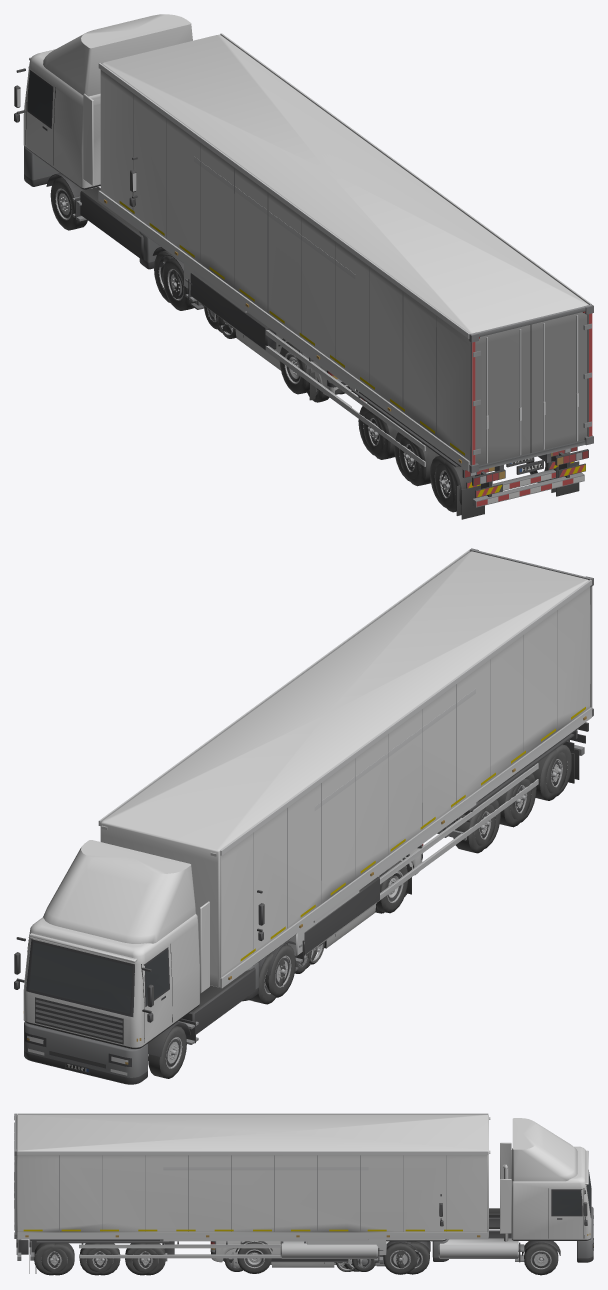
The model's file is traffic.glb.
3 renders of one model, top to bottom at view 1: azimuth 30°, elevation 25°; view 2: azimuth 150°, elevation 25°; view 3: azimuth 270°, elevation 25°, orthographic. The views are drawn at different scales.
Parts seen in each view (by area): view 1: semi, tanker, boxtruck, van; view 2: semi, tanker, boxtruck; view 3: semi, tanker, boxtruck, van, sports.
Boxes of the visible parts, x1,y1,x2,y2 form: semi: (14, 14, 593, 519); tanker: (14, 50, 577, 515); boxtruck: (129, 156, 367, 403); van: (200, 303, 352, 402); semi: (14, 548, 593, 1084); tanker: (14, 730, 577, 1083); boxtruck: (242, 688, 478, 1001); semi: (14, 1113, 593, 1275); tanker: (29, 1142, 593, 1275); boxtruck: (160, 1167, 448, 1274); van: (210, 1241, 389, 1271); sports: (231, 1250, 376, 1271).
Size of what is drawn, in the model's own units: 2.91 by 4 by 16.69.
